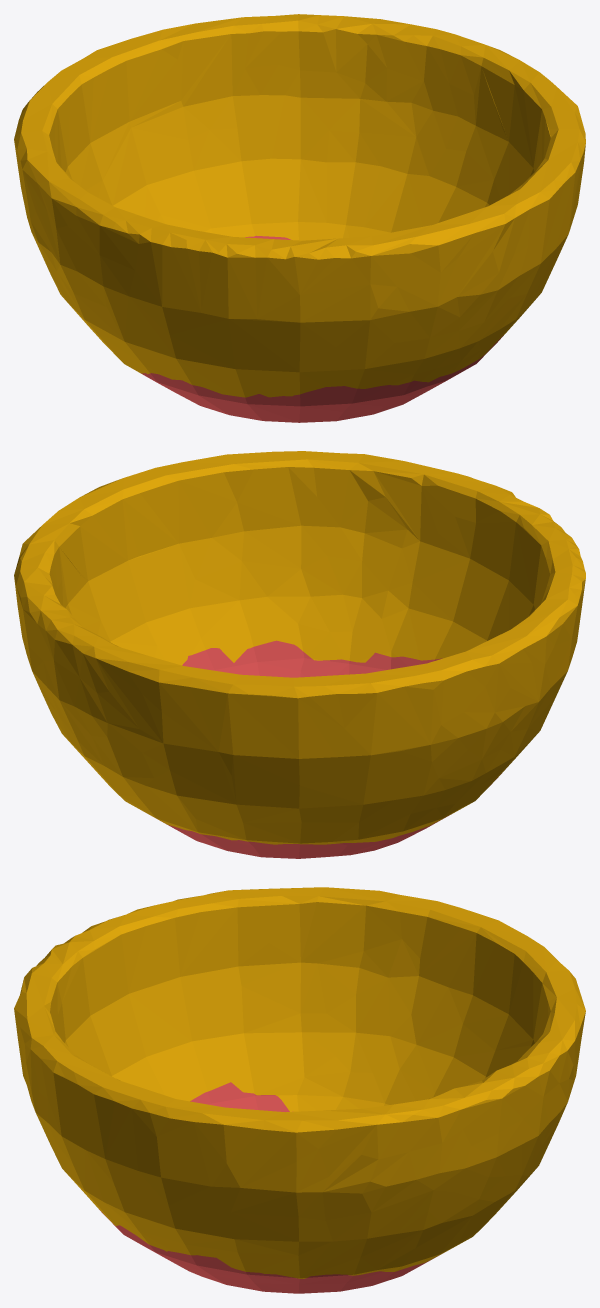
The model's file is fractured_23_2pcs.glb.
3 views of the same model, one above another, from view 1: azimuth 30°, elevation 25°; view 2: azimuth 150°, elevation 25°; view 3: azimuth 270°, elevation 25° (orthographic).
Visible parts, largest first — view 1: piece_0.obj, piece_1.obj; view 2: piece_0.obj, piece_1.obj; view 3: piece_0.obj, piece_1.obj.
Part boxes in pixels (x1=…): piece_0.obj: x1=14, y1=14, x2=585, y2=397; piece_1.obj: x1=141, y1=235, x2=503, y2=422; piece_0.obj: x1=14, y1=451, x2=585, y2=844; piece_1.obj: x1=163, y1=640, x2=501, y2=858; piece_0.obj: x1=14, y1=887, x2=585, y2=1278; piece_1.obj: x1=99, y1=1082, x2=439, y2=1293.
Bounding box in the file's own units: 0.9989 × 0.5115 × 1.
